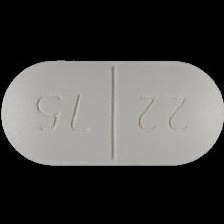51655-160: (0, 0, 224, 224)
